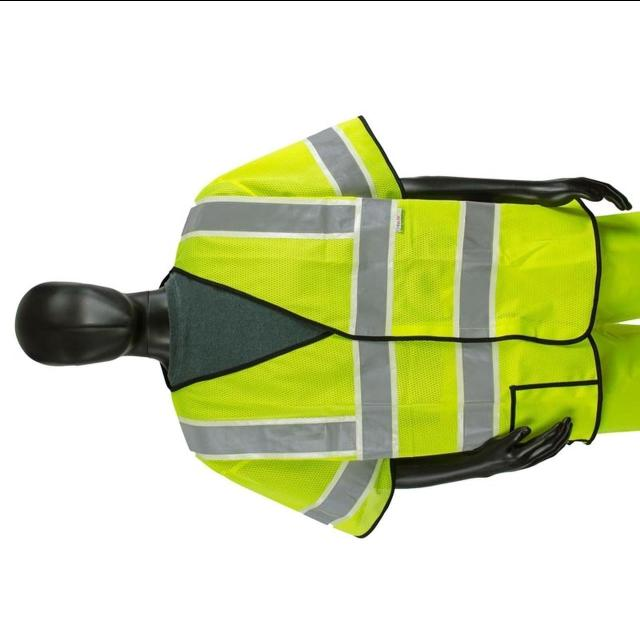jacket: (161, 100, 596, 550)
